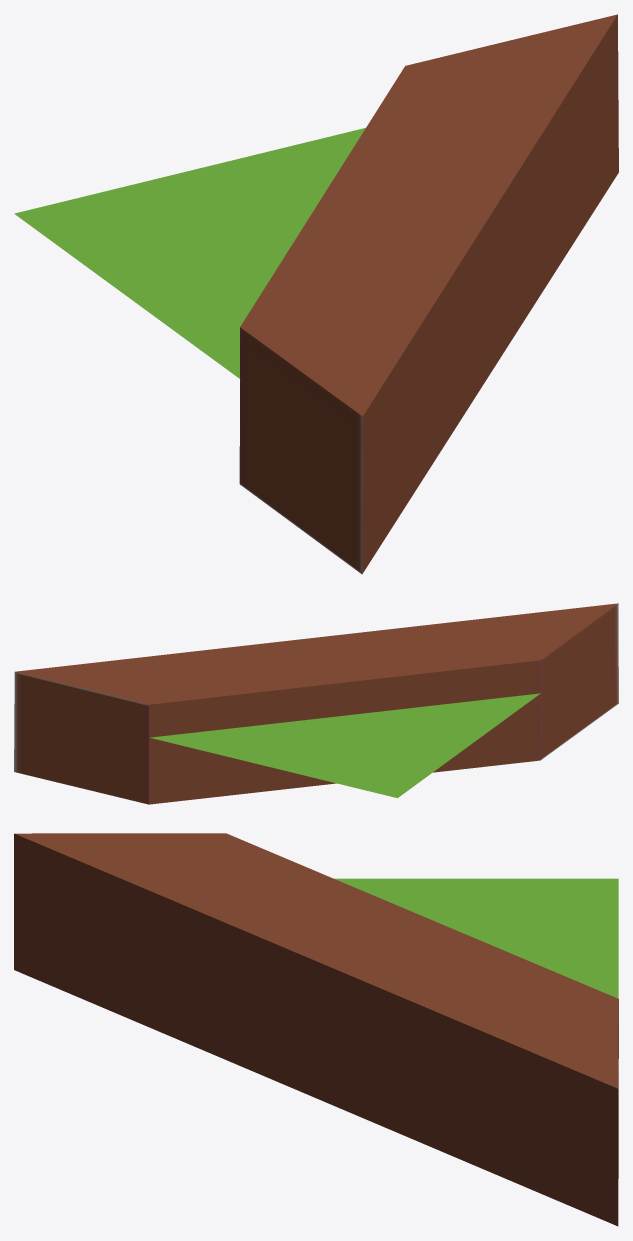
Rendered from corner.fbx.
3 renders of one model, top to bottom at view 1: azimuth 30°, elevation 25°; view 2: azimuth 150°, elevation 25°; view 3: azimuth 270°, elevation 25°, orthographic. The views are drawn at different scales.
Parts seen in each view (by area): view 1: Corner; view 2: Corner; view 3: Corner.
Part boxes in pixels (box(x1,y1,x2,y2)): Corner: box(14, 14, 618, 574); Corner: box(14, 603, 618, 804); Corner: box(14, 833, 618, 1226).
Bounding box in the file's own units: 201 × 50.18 × 200.
